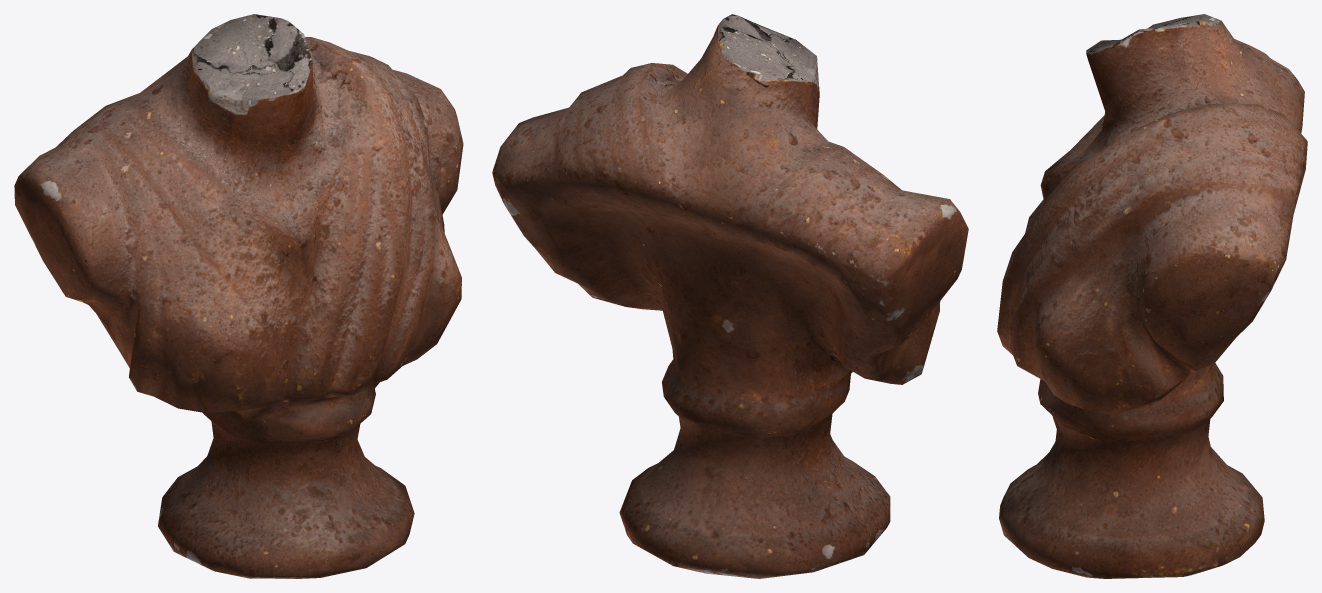
Rendered from Broken_statue2.fbx.
3 views of the same model, side by side, from view 1: azimuth 30°, elevation 25°; view 2: azimuth 150°, elevation 25°; view 3: azimuth 270°, elevation 25° (orthographic). The views are drawn at different scales.
Parts seen in each view (by area): view 1: S_Broken_Statuette_ugwicc2hw_lod3_Var1_LOD0; view 2: S_Broken_Statuette_ugwicc2hw_lod3_Var1_LOD0; view 3: S_Broken_Statuette_ugwicc2hw_lod3_Var1_LOD0.
Part boxes in pixels (box(x1,y1,x2,y2)): S_Broken_Statuette_ugwicc2hw_lod3_Var1_LOD0: box(14, 14, 463, 578); S_Broken_Statuette_ugwicc2hw_lod3_Var1_LOD0: box(492, 14, 968, 578); S_Broken_Statuette_ugwicc2hw_lod3_Var1_LOD0: box(997, 14, 1307, 578).
Bounding box in the file's own units: 19.98 × 23.04 × 12.66.
